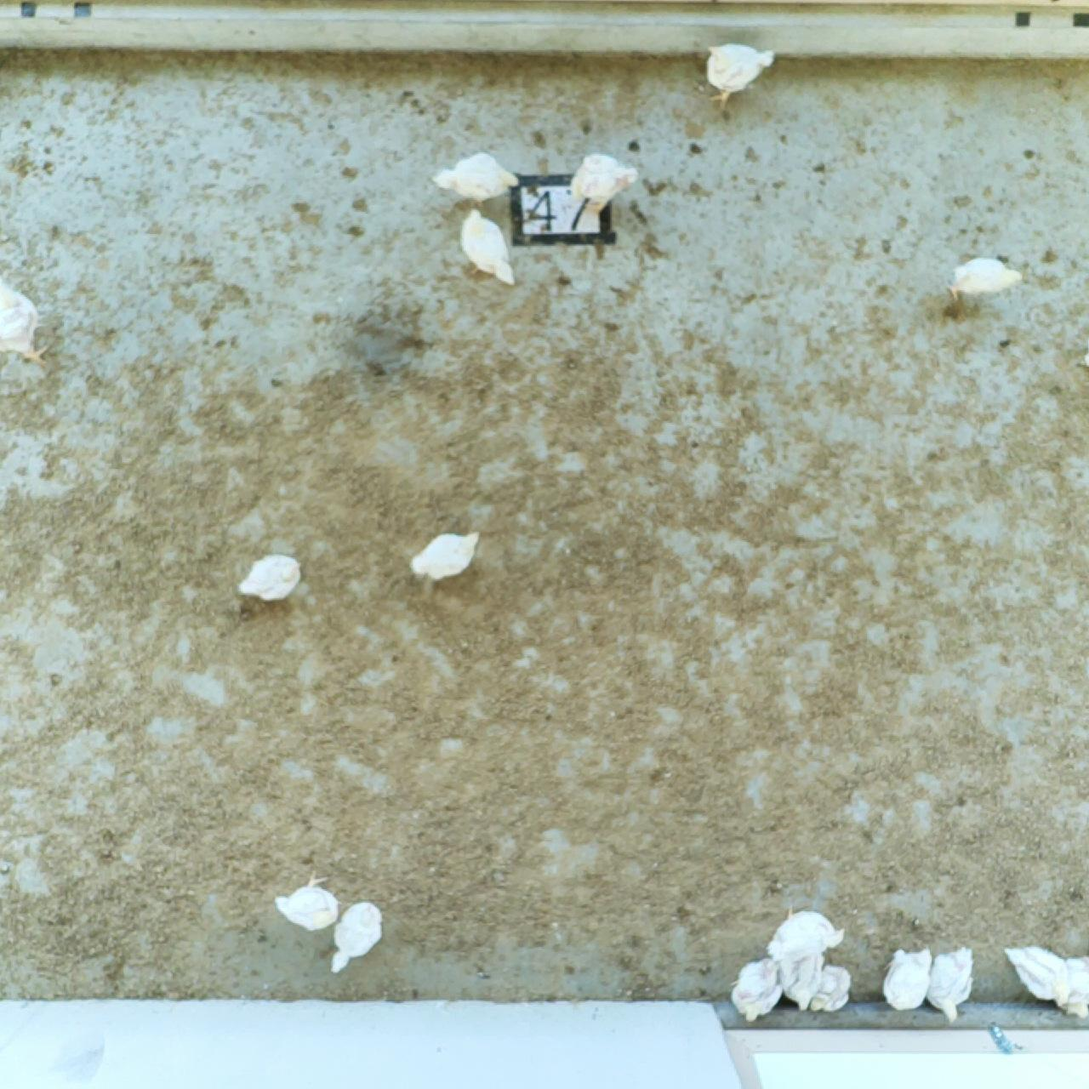chicken: (696, 37, 780, 114), (0, 270, 59, 376), (430, 145, 522, 212), (456, 208, 527, 294), (1000, 934, 1075, 1014), (267, 863, 342, 942), (323, 895, 390, 980), (407, 527, 490, 595), (563, 143, 642, 214), (763, 900, 848, 965), (878, 940, 940, 1021), (931, 935, 985, 1027), (941, 251, 1029, 307), (231, 546, 309, 606), (728, 956, 783, 1024), (776, 947, 827, 1016), (1049, 951, 1089, 1023), (806, 962, 856, 1016)
